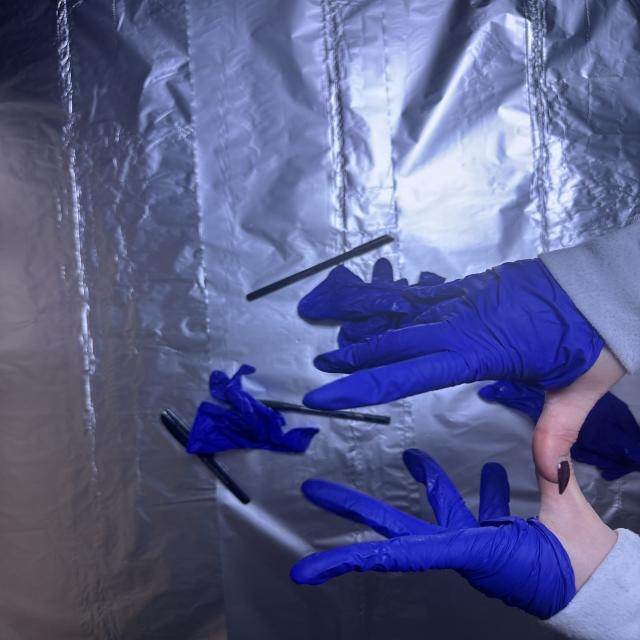glove_partial: (321, 255, 621, 491), (294, 445, 619, 625)
